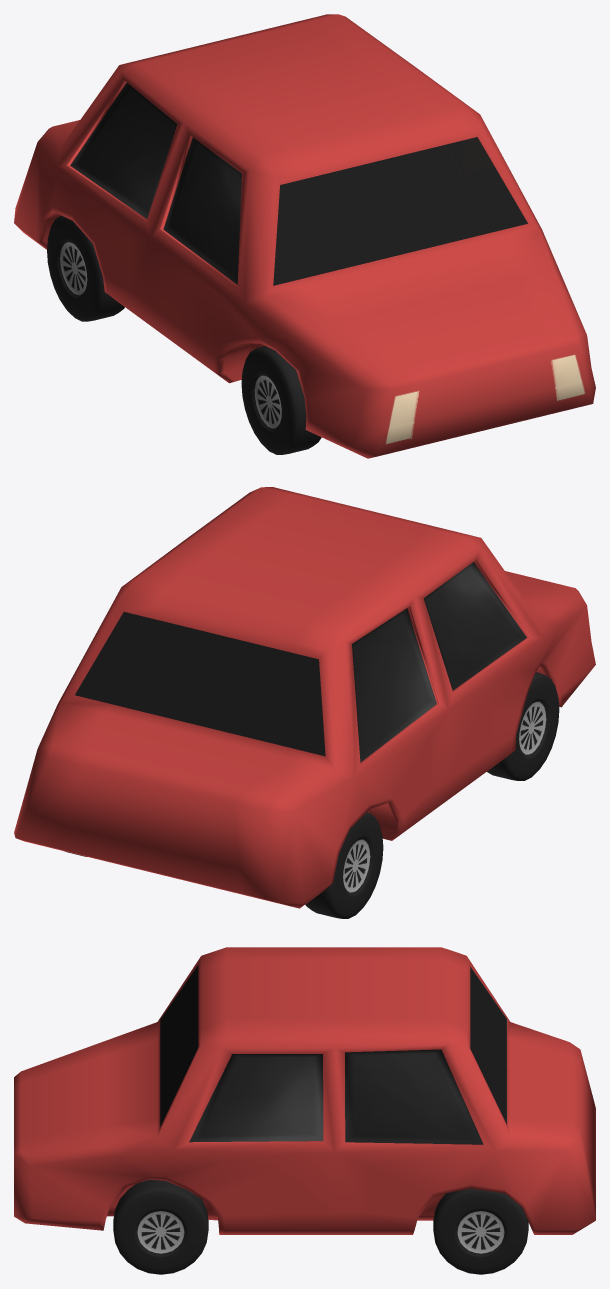
The model's file is kotse.fbx.
3 views of the same model, one above another, from view 1: azimuth 30°, elevation 25°; view 2: azimuth 150°, elevation 25°; view 3: azimuth 270°, elevation 25° (orthographic). The views are drawn at different scales.
Visible parts, largest first — view 1: Cube, Cylinder.003, Cylinder.002; view 2: Cube, Cylinder.002, Cylinder.003; view 3: Cube, Cylinder, Cylinder.001.
Part boxes in pixels (x1,y1,x2,y2): Cube: [14, 14, 595, 458]; Cylinder.003: [241, 346, 321, 454]; Cylinder.002: [47, 215, 124, 321]; Cube: [14, 487, 595, 908]; Cylinder.002: [305, 812, 383, 918]; Cylinder.003: [487, 672, 559, 780]; Cube: [14, 947, 595, 1234]; Cylinder: [113, 1179, 208, 1274]; Cylinder.001: [433, 1188, 528, 1274].
Bounding box in the file's own units: 594 × 500 × 1165.
Materials: 5 (5 with a texture image).
